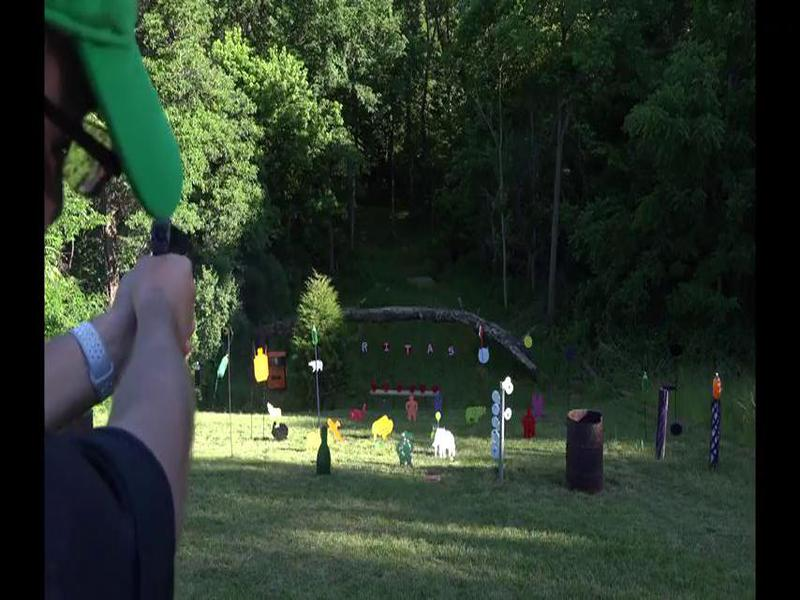Pistola: (146, 209, 209, 279)
